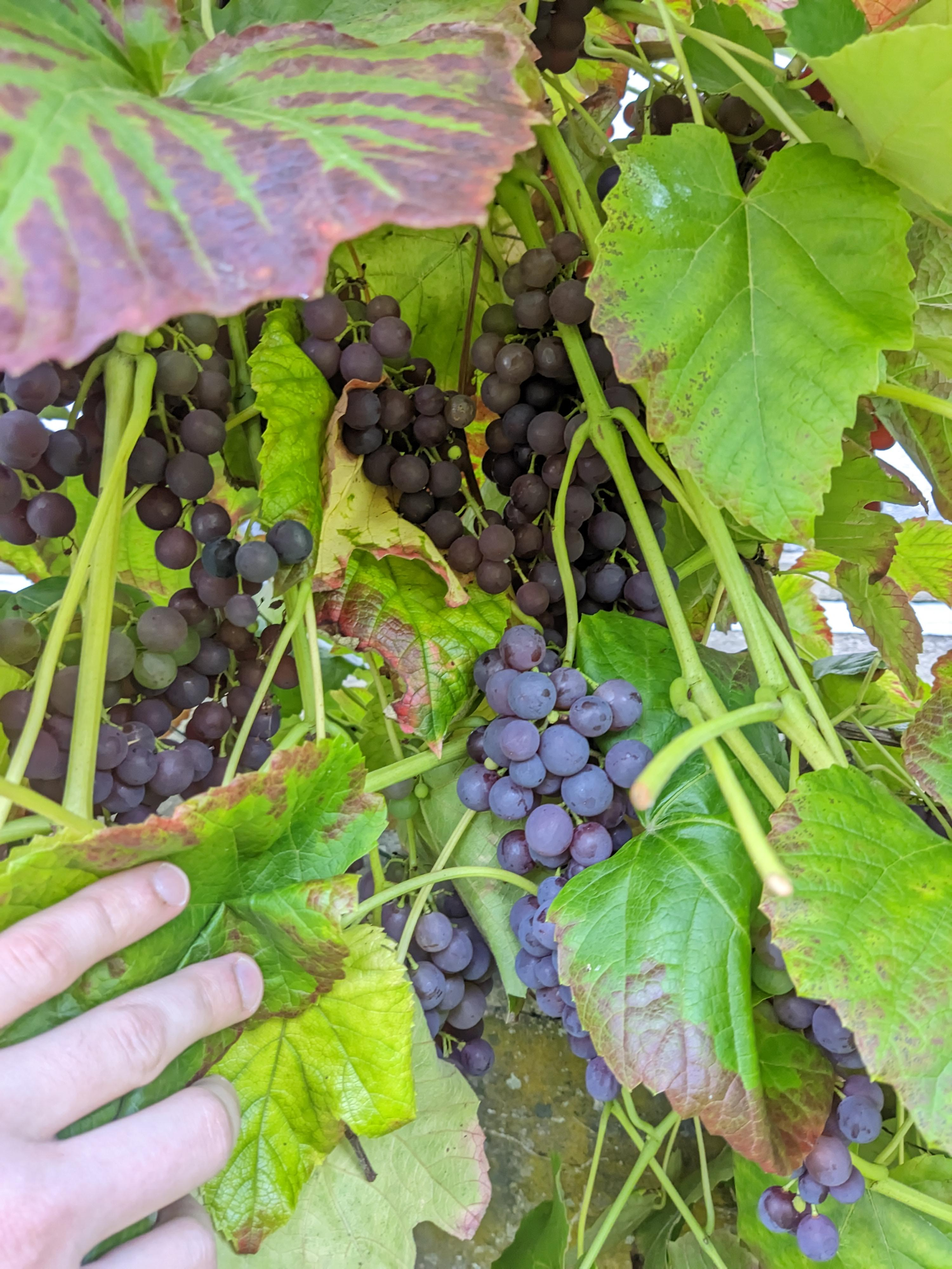Grape Unripe: (456, 623, 657, 1102), (0, 518, 310, 824), (469, 231, 678, 637), (303, 291, 550, 617), (0, 316, 240, 577), (750, 923, 885, 1262), (357, 851, 494, 1076), (597, 93, 779, 210), (509, 0, 597, 75)
